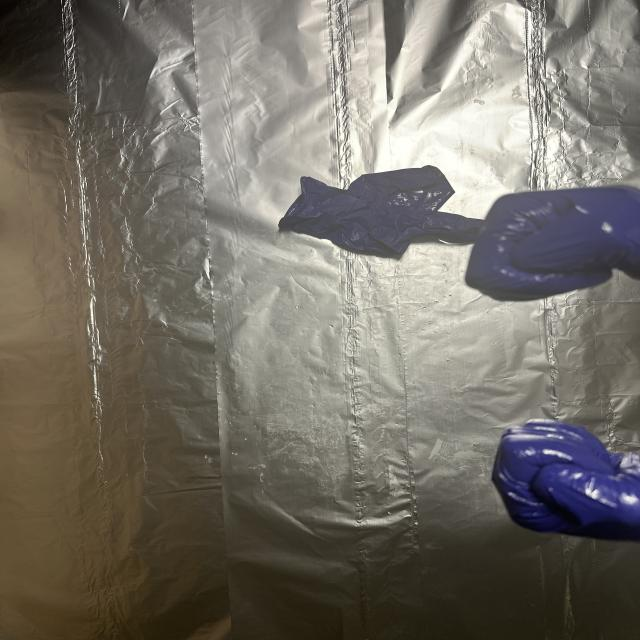gloves_contaminated: (465, 171, 640, 301), (492, 419, 640, 541)
